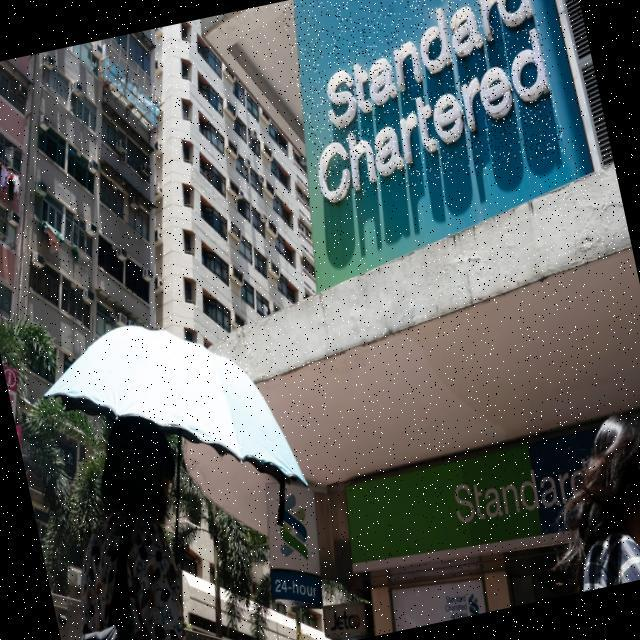Standard Chartered: (279, 0, 566, 205), (447, 453, 594, 530), (269, 491, 316, 566), (442, 588, 480, 620)
